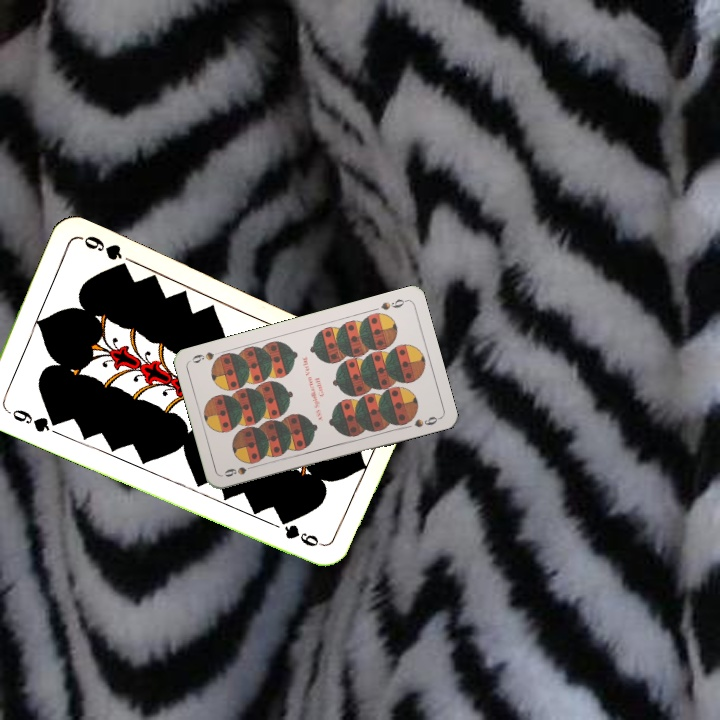G9: (2, 405, 61, 435)
S9: (220, 461, 260, 480), (377, 295, 409, 313)
